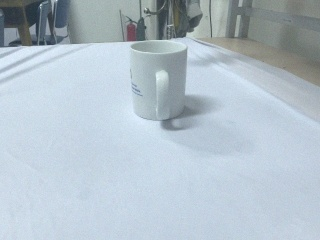cup: (128, 39, 191, 122)
